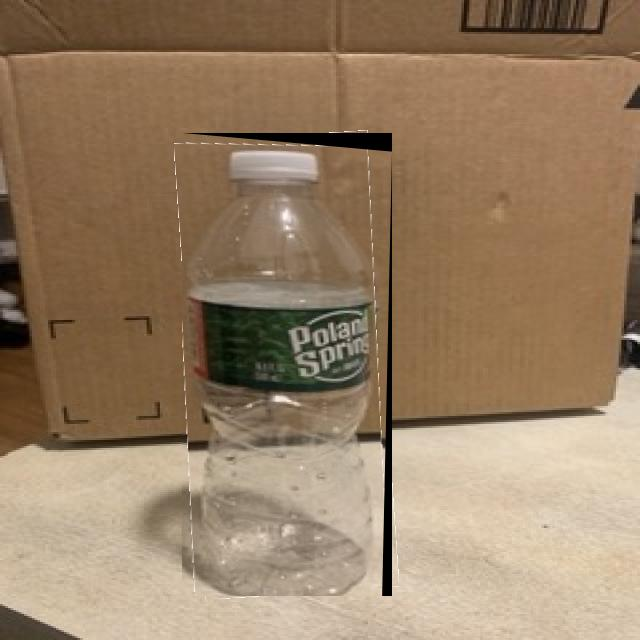water_bottle: (182, 133, 392, 596)
